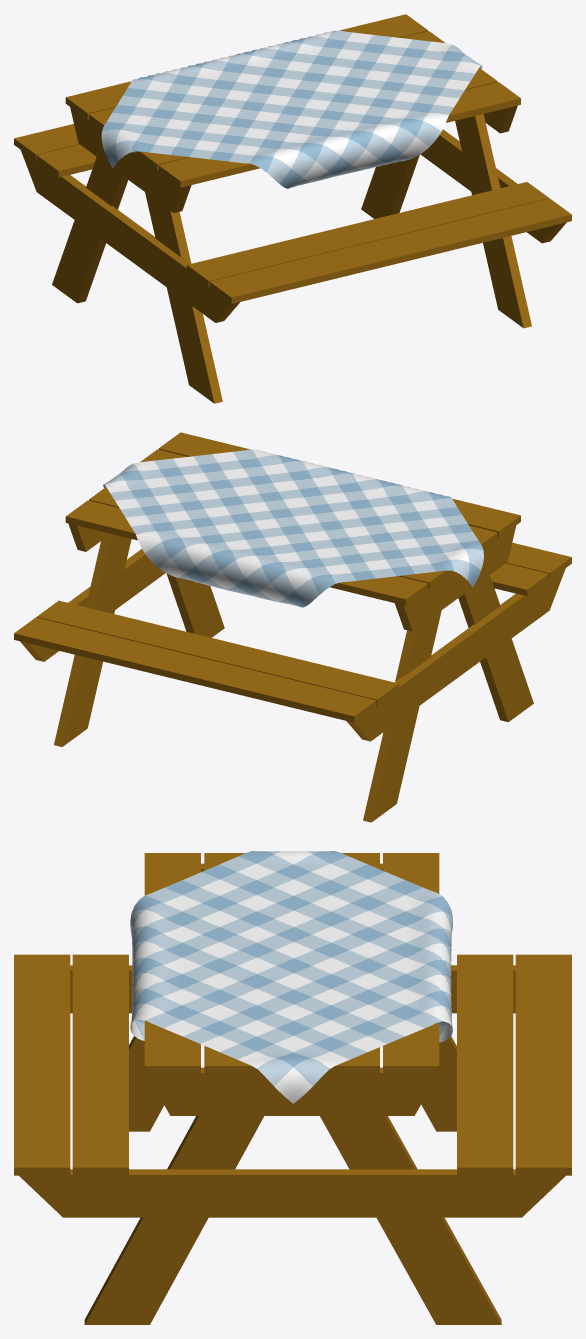
Rendered from table_5.fbx.
3 renders of one model, top to bottom at view 1: azimuth 30°, elevation 25°; view 2: azimuth 150°, elevation 25°; view 3: azimuth 270°, elevation 25°, orthographic. The views are drawn at different scales.
Visible parts, largest first — view 1: polySurface313; view 2: polySurface313; view 3: polySurface313.
Boxes of the visible parts, x1,y1,x2,y2 form: polySurface313: (14, 14, 571, 403); polySurface313: (14, 432, 571, 822); polySurface313: (14, 851, 571, 1324).
Bounding box in the file's own units: 0.4416 × 0.2443 × 0.4586.
Materials: 2 (1 with a texture image).
